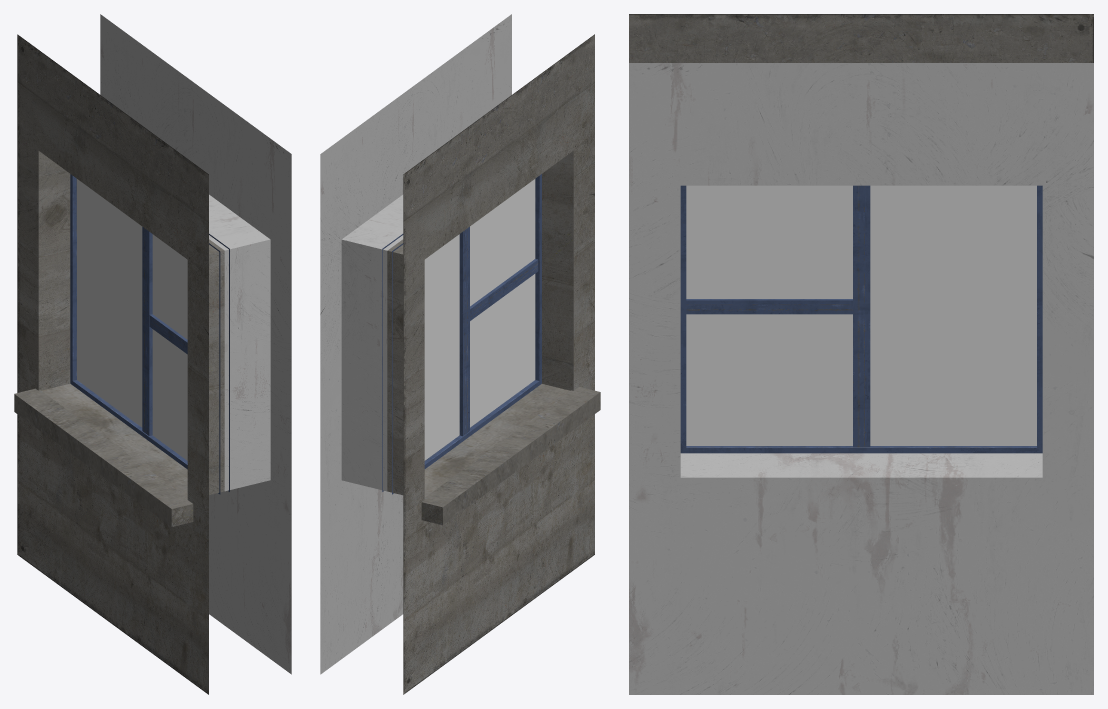
The model's file is CP_Windows_IN_A_2x3m_01.fbx.
3 views of the same model, side by side, from view 1: azimuth 30°, elevation 25°; view 2: azimuth 150°, elevation 25°; view 3: azimuth 270°, elevation 25° (orthographic). The views are drawn at different scales.
Parts seen in each view (by area): view 1: CP_Windows_IN_A_2x3m_01; view 2: CP_Windows_IN_A_2x3m_01; view 3: CP_Windows_IN_A_2x3m_01.
Boxes of the visible parts, x1,y1,x2,y2 form: CP_Windows_IN_A_2x3m_01: (14,14,291,694); CP_Windows_IN_A_2x3m_01: (320,14,600,694); CP_Windows_IN_A_2x3m_01: (629,14,1093,694).
Size of the model in its own units: 62.91 by 300 by 200.
